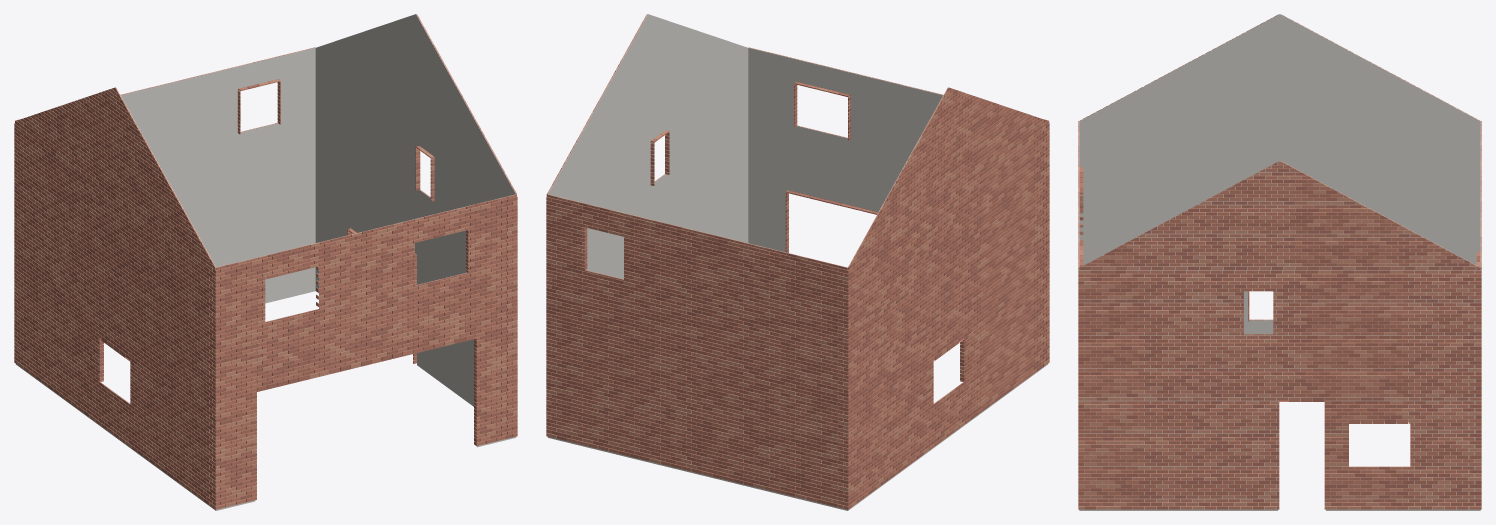
The model's file is stage-9.glb.
3 renders of one model, left to right at view 1: azimuth 30°, elevation 25°; view 2: azimuth 150°, elevation 25°; view 3: azimuth 270°, elevation 25°, orthographic.
Visible parts, largest first — view 1: Geom3D (×7); view 2: Geom3D (×7); view 3: Geom3D (×7).
Part boxes in pixels (x1=…): Geom3D (×7): x1=14, y1=14, x2=517, y2=510; Geom3D (×7): x1=546, y1=14, x2=1049, y2=510; Geom3D (×7): x1=1078, y1=14, x2=1481, y2=510.
Size of the model in its own units: 6.53 by 7.24 by 7.55.
